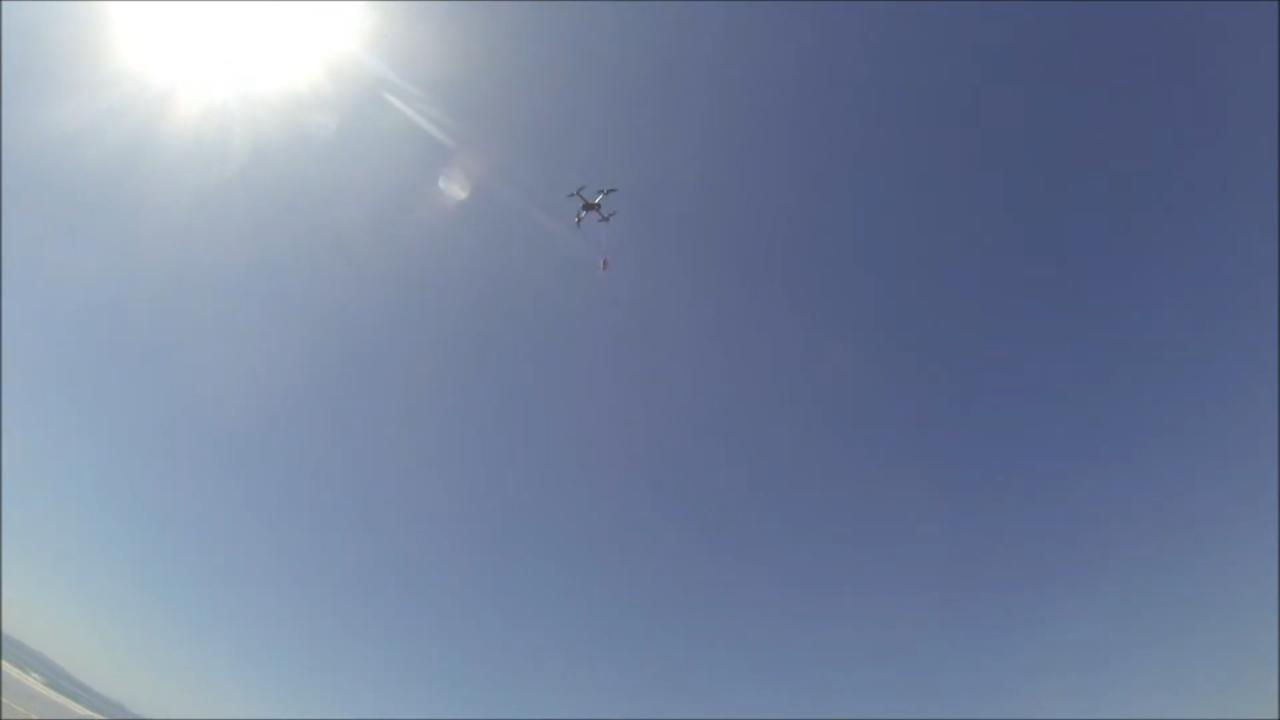Drone: (560, 172, 627, 239)
